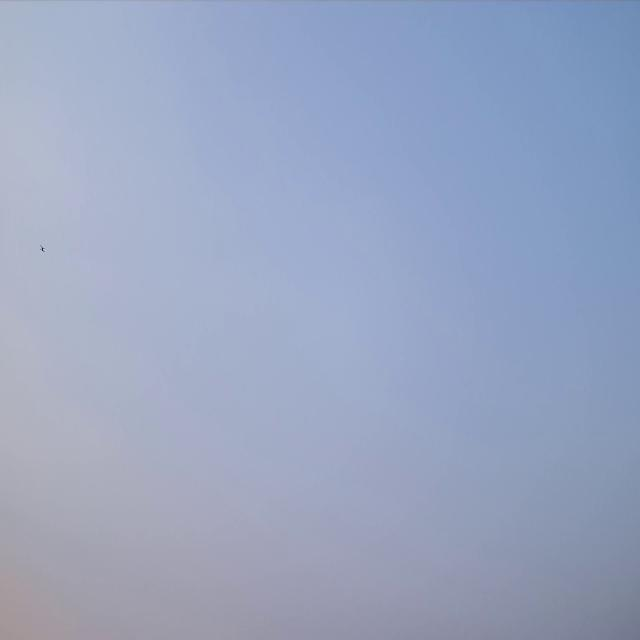UAV: (39, 244, 45, 253)
